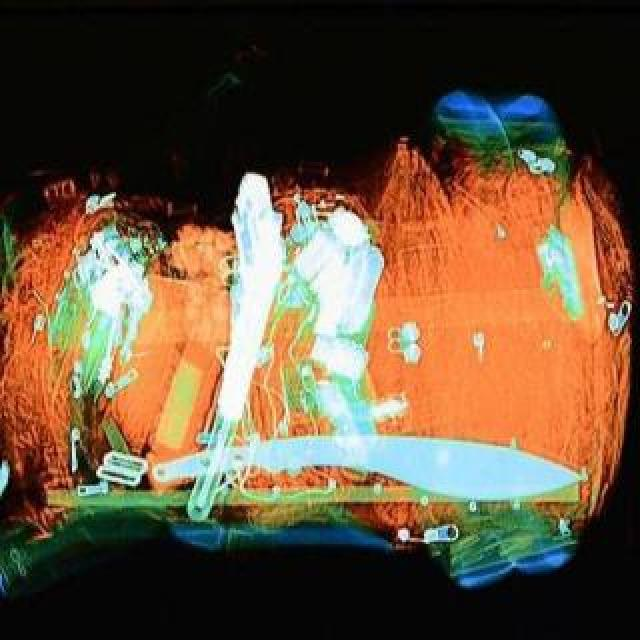gun: (186, 174, 286, 526)
